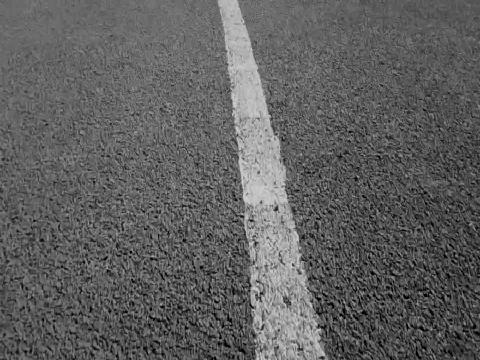Lines: (215, 0, 329, 360)
